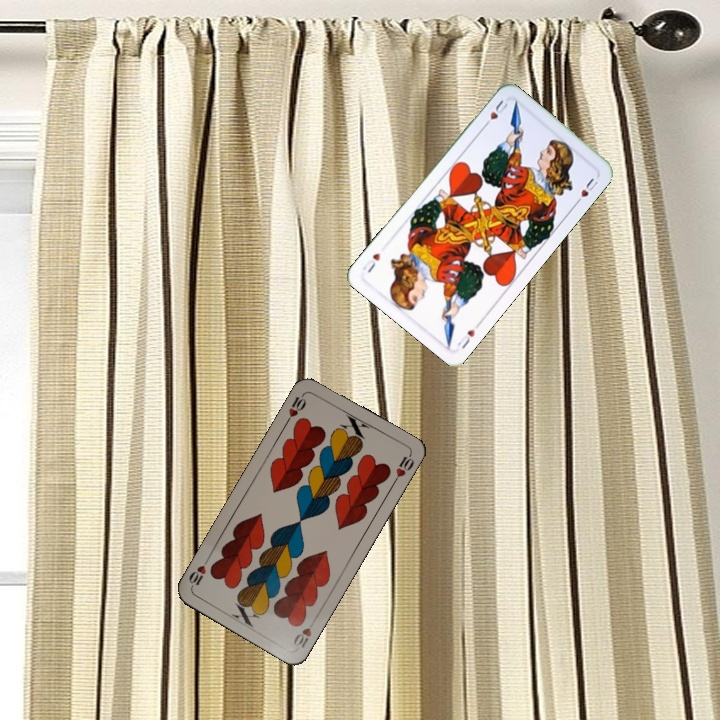H10: (289, 614, 319, 651), (282, 389, 309, 426)
HU: (479, 96, 510, 130), (453, 325, 478, 352)
